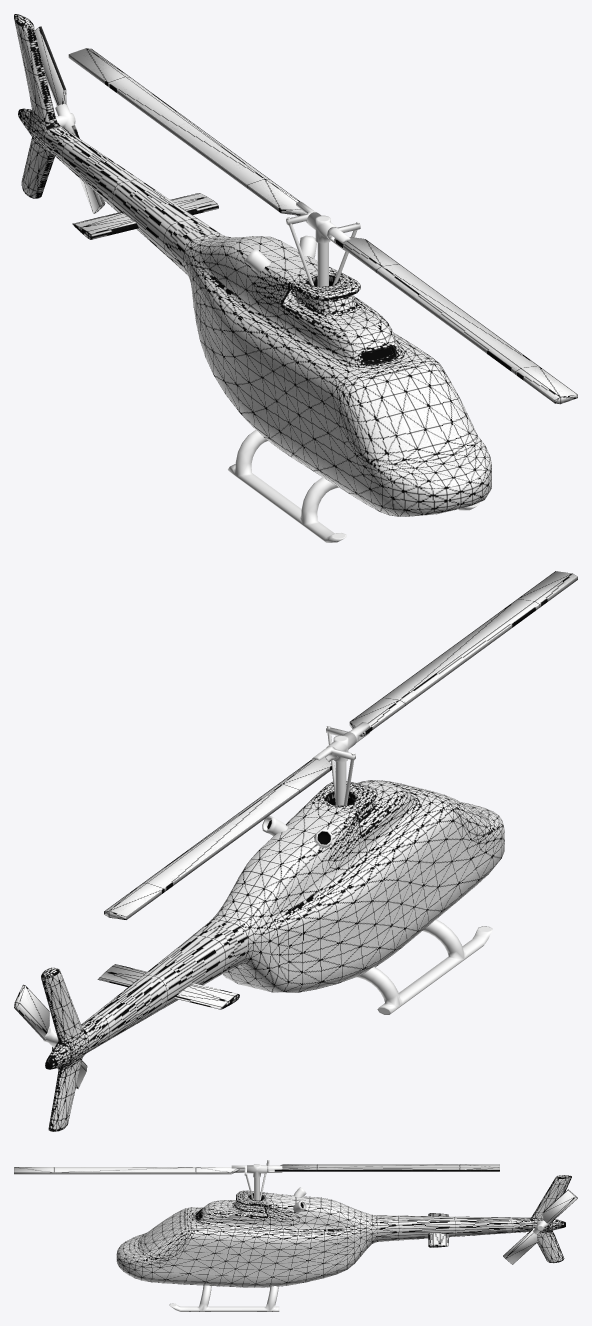
File: helicopter.obj
3 views of the same model, one above another, from view 1: azimuth 30°, elevation 25°; view 2: azimuth 150°, elevation 25°; view 3: azimuth 270°, elevation 25° (orthographic). The views are drawn at different scales.
Parts seen in each view (by area): view 1: helo, rotorBlade1, rotorBlade2, skids, tailWinglet, rotorShaft, tailRotorBlade2, exhaust; view 2: helo, rotorBlade2, rotorBlade1, skids, tailWinglet, tailRotorBlade2, rotorShaft; view 3: helo, rotorBlade2, rotorBlade1, skids, tailRotorBlade2, tailRotorBlade1, tailWinglet, rotorShaft, exhaust.
Part boxes in pixels (x1,y1,x2,y2): helo: [14, 14, 491, 516]; rotorBlade1: [327, 223, 577, 404]; rotorBlade2: [68, 48, 315, 225]; skids: [228, 430, 479, 542]; tailWinglet: [72, 193, 218, 239]; rotorShaft: [307, 212, 337, 286]; tailRotorBlade2: [35, 26, 66, 105]; exhaust: [244, 235, 317, 273]; helo: [41, 780, 504, 1131]; rotorBlade2: [104, 746, 355, 919]; rotorBlade1: [326, 571, 577, 742]; skids: [356, 919, 492, 1014]; tailWinglet: [97, 964, 239, 1009]; tailRotorBlade2: [14, 984, 49, 1040]; rotorShaft: [326, 732, 356, 805]; helo: [116, 1175, 571, 1287]; rotorBlade2: [267, 1161, 499, 1172]; rotorBlade1: [14, 1165, 246, 1175]; skids: [169, 1285, 279, 1311]; tailRotorBlade2: [543, 1189, 577, 1226]; tailRotorBlade1: [503, 1227, 537, 1264]; tailWinglet: [428, 1213, 448, 1247]; rotorShaft: [247, 1164, 266, 1200]; exhaust: [293, 1187, 306, 1212].
Size of the model in its own units: 1.82 by 2.98 by 11.79.
3 materials, 1 textured.
